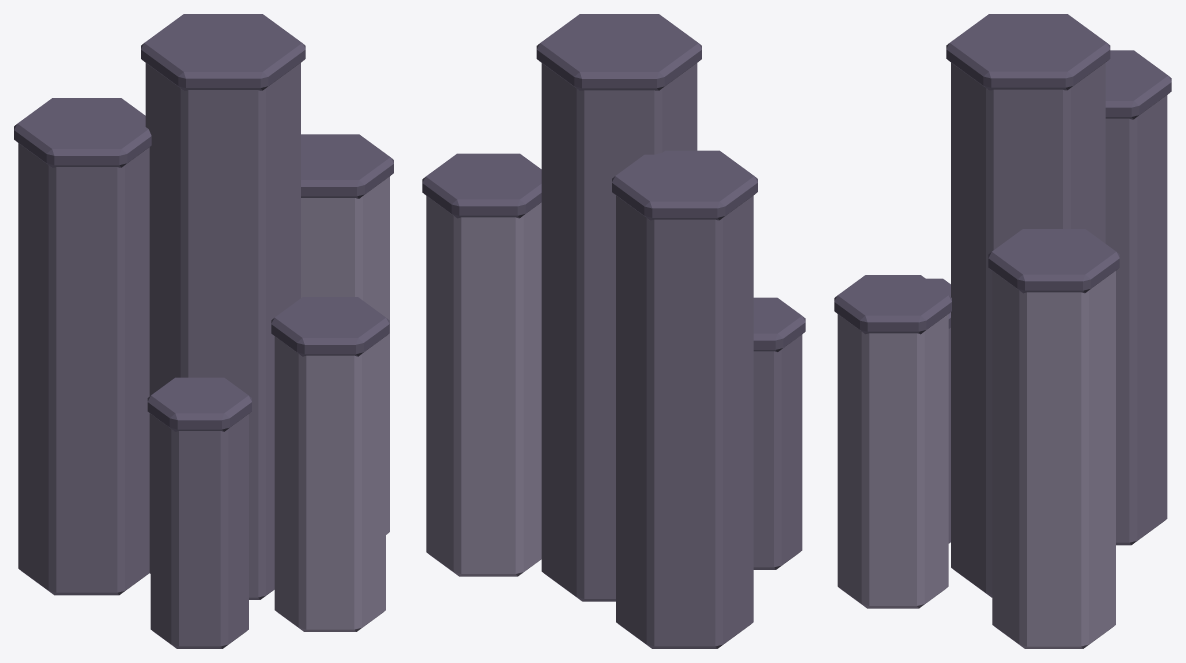
Rendered from ember_basalt_columns.glb.
3 renders of one model, left to right at view 1: azimuth 30°, elevation 25°; view 2: azimuth 150°, elevation 25°; view 3: azimuth 270°, elevation 25°, orthographic.
Parts seen in each view (by area): view 1: ember_basalt_columns.001; view 2: ember_basalt_columns.001; view 3: ember_basalt_columns.001.
Part boxes in pixels (x1,y1,x2,y2): ember_basalt_columns.001: (14,14,393,648); ember_basalt_columns.001: (422,14,805,648); ember_basalt_columns.001: (834,14,1171,648).
Size of the model in its own units: 2.91 by 4.52 by 2.62.
